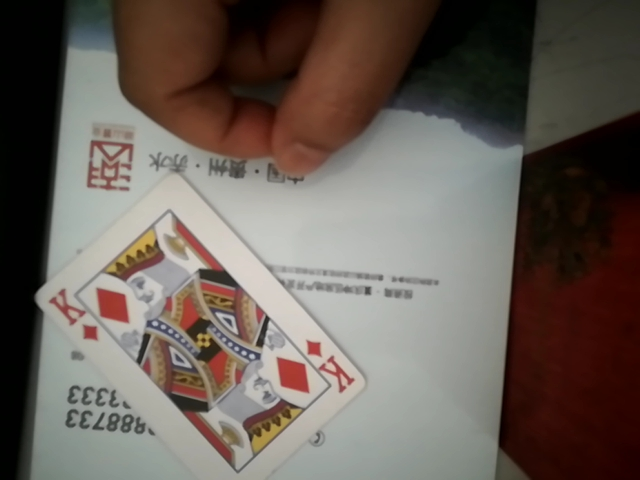fk k: (32, 172, 377, 480)
